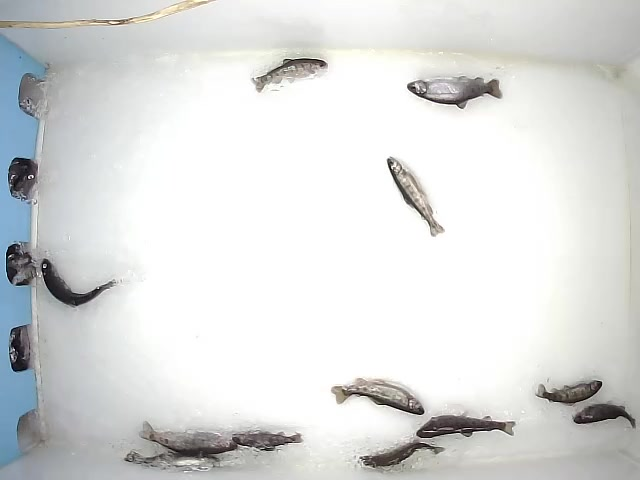fish: (385, 155, 445, 238), (40, 256, 119, 309), (330, 375, 424, 414), (405, 74, 503, 110), (137, 420, 236, 454), (250, 55, 328, 94), (414, 409, 515, 439), (356, 439, 446, 468), (121, 449, 220, 472), (230, 426, 304, 453), (535, 378, 603, 406), (570, 403, 637, 429)
